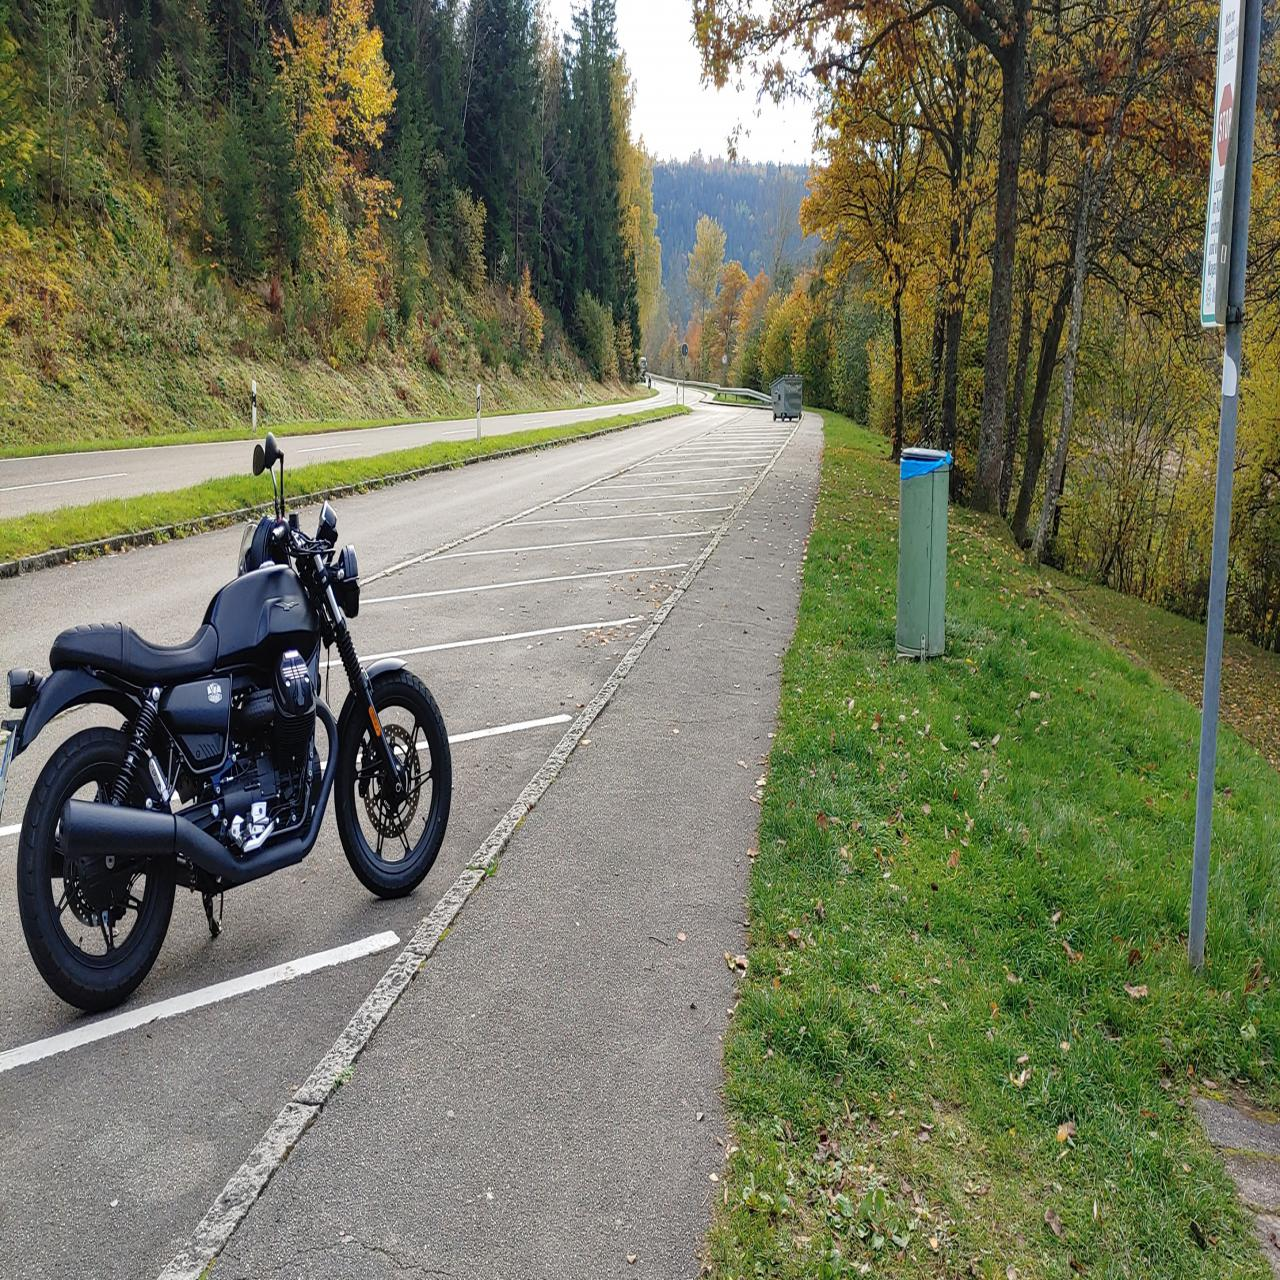MB: (4, 415, 470, 1017)
